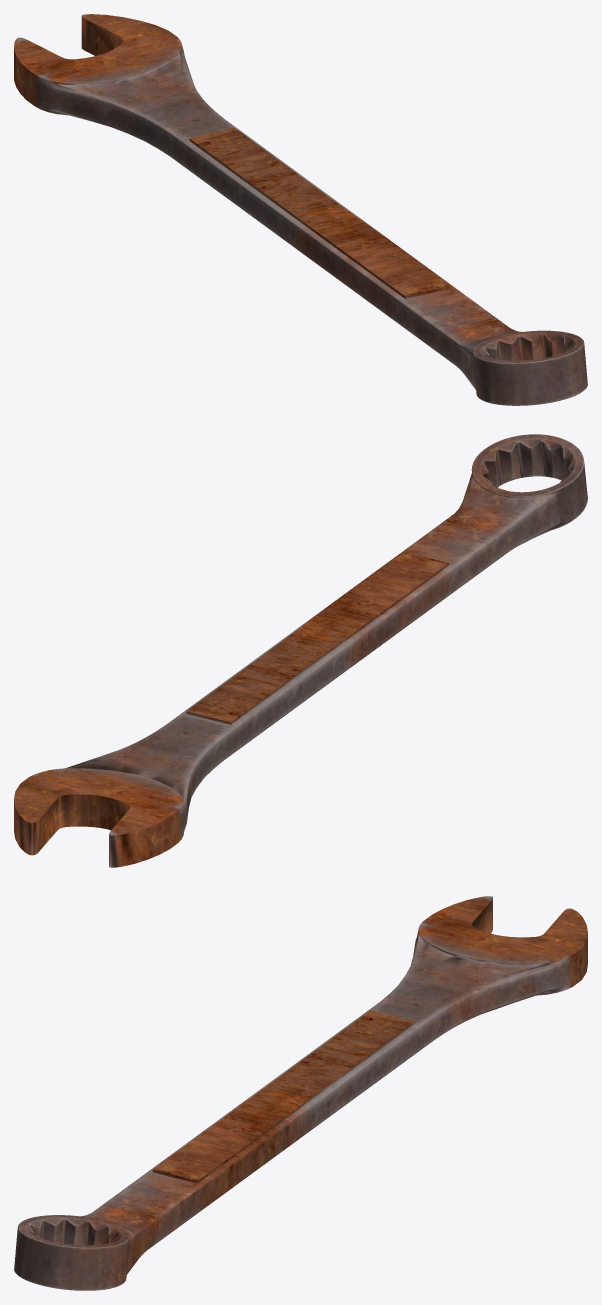
File: combination_wrench.glb
3 renders of one model, top to bottom at view 1: azimuth 30°, elevation 25°; view 2: azimuth 150°, elevation 25°; view 3: azimuth 330°, elevation 25°, orthographic.
Visible parts, largest first — view 1: combination_wrench; view 2: combination_wrench; view 3: combination_wrench.
Boxes of the visible parts, bbox=[...] form: combination_wrench: bbox=[14, 14, 587, 405]; combination_wrench: bbox=[14, 434, 587, 867]; combination_wrench: bbox=[14, 896, 587, 1290].
Size of what is drawn, in the model's own units: 0.0566 by 0.0215 by 0.337.
1 material, 1 textured.
